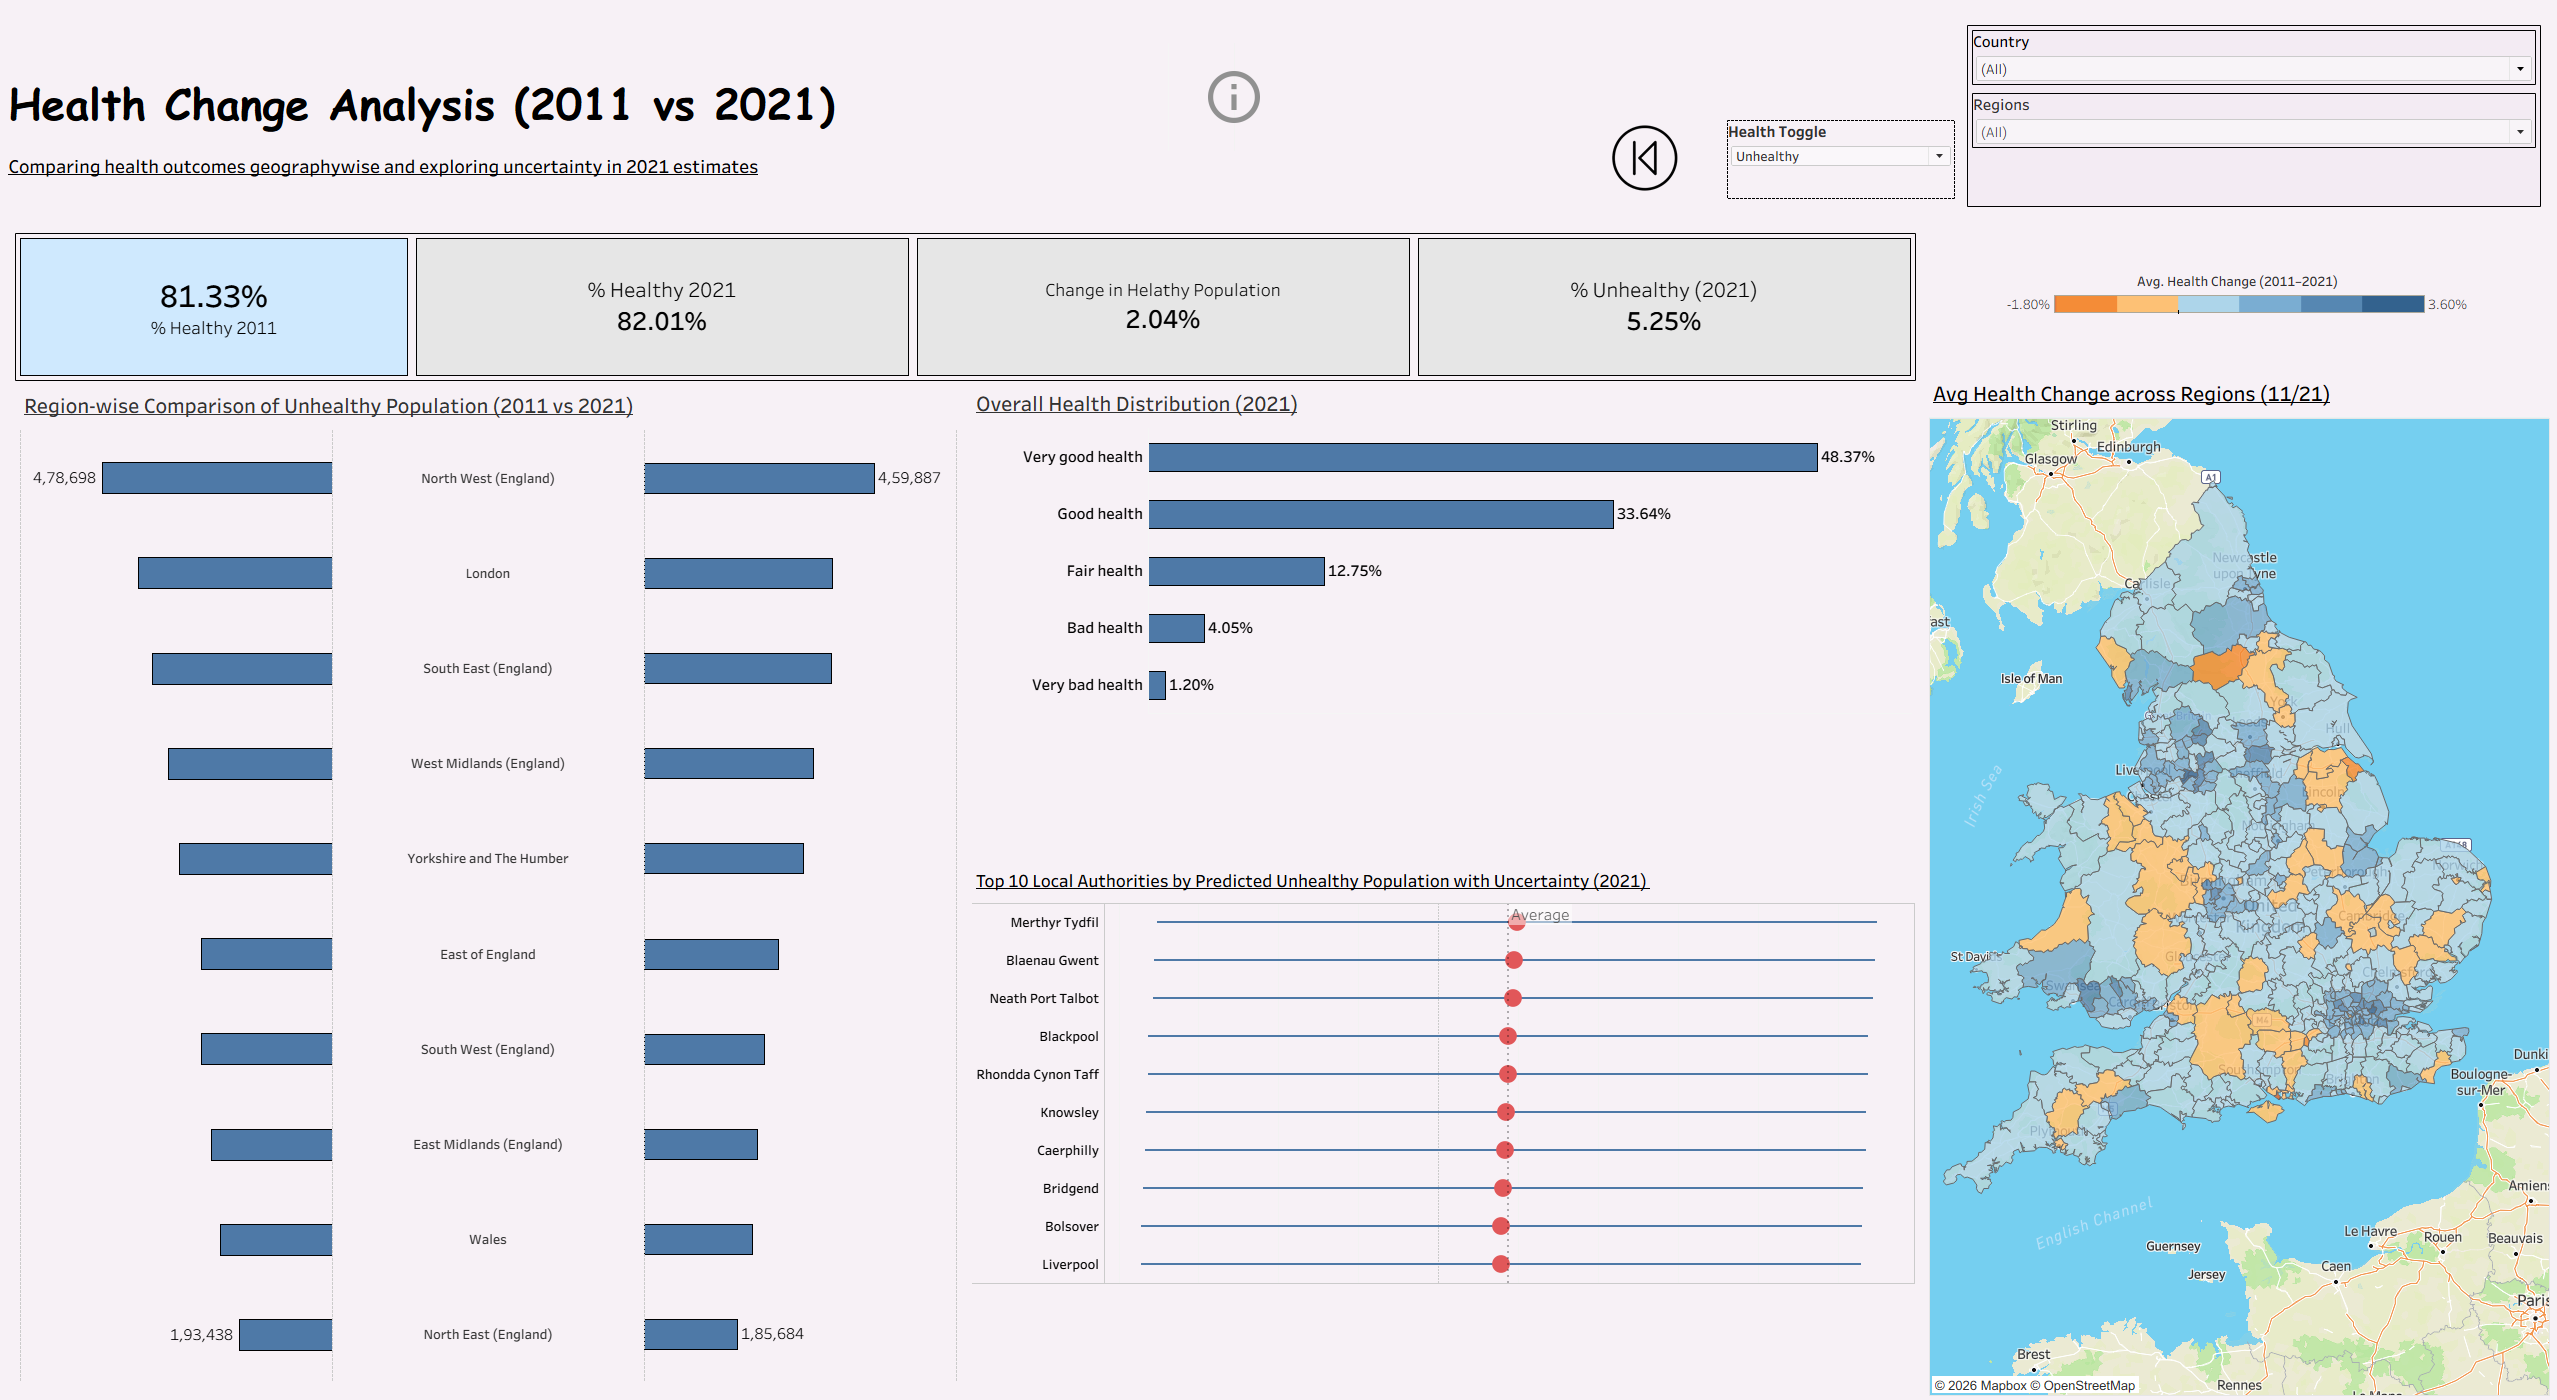

The dashboard page shown, as its layout file describes it:
{"tool":"tableau","page":{"name":"2011 vs 2021","canvas":[1000,1000],"units":"permille","ordinal":0},"visuals":[{"type":"text","box":[2,14.8,993.4,149.1]},{"type":"filter","title":"healthy pct 2011 kpi (1,2)","param":"[federated.1a80vjf1ezh7yy1eq0o840h0tbf4].[none:Calculation_952792859709722624:nk","box":[768.6,18.4,223.4,61.8]},{"type":"worksheet","title":"info icon sheet (for desc. of third dashboard) (3)","mark":"Shape","cols":["Calculation_1832402163825782784"],"box":[456.3,30.9,51.7,77.2]},{"type":"filter","title":"Unhealthy pct 2021 kpi (3)","param":"[federated.1a80vjf1ezh7yy1eq0o840h0tbf4].[none:Regions:nk]","box":[768.6,80.2,223.4,61.8]},{"type":"dashboard-object","box":[621.9,81.5,41.1,62]},{"type":"parameter","param":"[Parameters].[Parameter 3]","box":[674.5,85.2,89.1,56.5]},{"type":"worksheet","title":"healthy pct 2011 kpi (1,2)","mark":"Text","box":[6.1,166.6,157,103.8]},{"type":"worksheet","title":"healthy pct 2021 kpi (3)","mark":"Text","box":[163.2,166.6,195,103.8]},{"type":"worksheet","title":"pct helath change (11 to 21)","mark":"Text","box":[358.1,166.6,195,103.8]},{"type":"worksheet","title":"Unhealthy pct 2021 kpi (3)","mark":"Text","box":[553.1,166.6,195,103.8]},{"type":"legend","title":"uk map (11/21 comparison)","param":"[federated.1a80vjf1ezh7yy1eq0o840h0tbf4].[avg:Calculation_445856427998441481:qk]","box":[782.3,193.5,183.3,56.5]},{"type":"worksheet","title":"uk map (11/21 comparison)","mark":"Multipolygon","box":[753.6,267.6,242.7,727.8]},{"type":"worksheet","title":"health categorywise distribution (2021) (3)","mark":"Bar","rows":["health_category"],"box":[379.7,274.1,367.2,322.2]},{"type":"worksheet","title":"region wise comparison (2011 vs 2021) (3)","mark":"Automatic","rows":["Regions"],"cols":["Calculation_485262924903477256","Calculation_485262924898062340","Calculation_485262924903038982"],"box":[7.8,275.9,366.2,710.2]},{"type":"worksheet","title":"Bayesian Prediction (3)","mark":"GanttBar","rows":["geography"],"cols":["lower_credible","predicted_unhealthy_2021"],"box":[379.7,615.7,368.2,367.6]}]}

Visuals, with their boxes on the dashboard's canvas, which has no fixed pixel size, in thousandths of its width and height (x1, y1, x2, y2). These are canvas units, not pixel positions in the 2557x1400 screenshot, which may show the page scaled, cropped or inside an application window:
text: (left=2, top=15, right=995, bottom=164)
"healthy pct 2011 kpi (1,2)" filter: (left=769, top=18, right=992, bottom=80)
"info icon sheet (for desc. of third dashboard) (3)" worksheet (Shape marks): (left=456, top=31, right=508, bottom=108)
"Unhealthy pct 2021 kpi (3)" filter: (left=769, top=80, right=992, bottom=142)
dashboard-object: (left=622, top=82, right=663, bottom=144)
parameter: (left=674, top=85, right=764, bottom=142)
"healthy pct 2011 kpi (1,2)" worksheet (Text marks): (left=6, top=167, right=163, bottom=270)
"healthy pct 2021 kpi (3)" worksheet (Text marks): (left=163, top=167, right=358, bottom=270)
"pct helath change (11 to 21)" worksheet (Text marks): (left=358, top=167, right=553, bottom=270)
"Unhealthy pct 2021 kpi (3)" worksheet (Text marks): (left=553, top=167, right=748, bottom=270)
"uk map (11/21 comparison)" legend: (left=782, top=194, right=966, bottom=250)
"uk map (11/21 comparison)" worksheet (Multipolygon marks): (left=754, top=268, right=996, bottom=995)
"health categorywise distribution (2021) (3)" worksheet (Bar marks): (left=380, top=274, right=747, bottom=596)
"region wise comparison (2011 vs 2021) (3)" worksheet: (left=8, top=276, right=374, bottom=986)
"Bayesian Prediction (3)" worksheet (GanttBar marks): (left=380, top=616, right=748, bottom=983)
